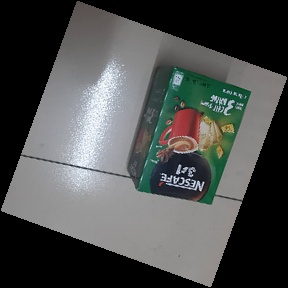Nes Rang: (127, 63, 252, 208)
